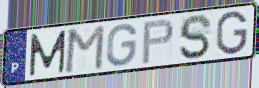G: (215, 10, 249, 57), (105, 22, 139, 68)
M: (63, 24, 107, 75), (28, 28, 68, 78)
P: (140, 17, 176, 66)
S: (178, 13, 214, 61)
